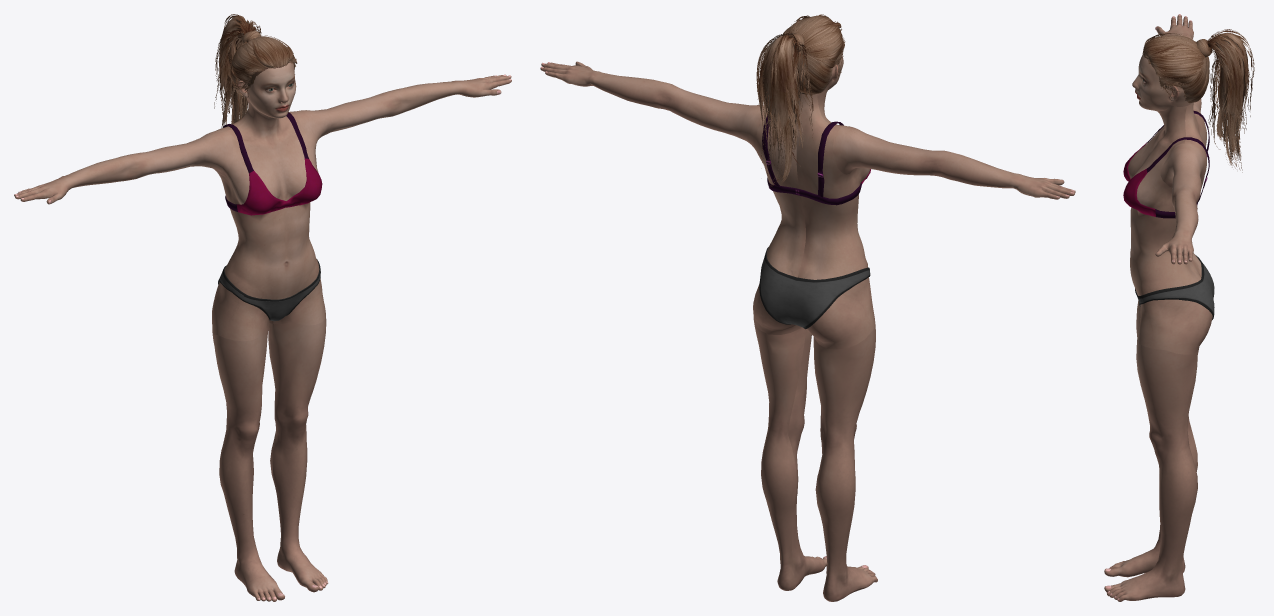
Rendered from western-female.fbx.
3 views of the same model, side by side, from view 1: azimuth 30°, elevation 25°; view 2: azimuth 150°, elevation 25°; view 3: azimuth 270°, elevation 25° (orthographic). The views are drawn at different scales.
Parts seen in each view (by area): view 1: 4, 2, 3, Hair_High_polytail_0, Bra_Bra_0, 1, Underwear_Bottoms_UnderwearBottoms_0; view 2: 4, 2, 3, Hair_High_polytail_0, Underwear_Bottoms_UnderwearBottoms_0, Bra_Bra_0; view 3: 4, 2, Hair_High_polytail_0, 3, 1, Bra_Bra_0, Underwear_Bottoms_UnderwearBottoms_0.
Part boxes in pixels (x1,y1,x2,y2): 4: (212,315,328,601); 2: (212,101,325,341); 3: (14,75,511,204); Hair_High_polytail_0: (214,14,297,127); Bra_Bra_0: (222,112,322,215); 1: (237,62,296,118); Underwear_Bottoms_UnderwearBottoms_0: (218,259,320,321); 4: (754,321,877,601); 2: (753,86,875,349); 3: (540,61,1075,199); Hair_High_polytail_0: (756,14,845,186); Underwear_Bottoms_UnderwearBottoms_0: (759,247,870,329); Bra_Bra_0: (762,115,870,205); 4: (1104,309,1198,601); 2: (1128,102,1212,354); Hair_High_polytail_0: (1142,29,1254,172); 3: (1155,15,1205,264); 1: (1132,54,1191,111); Bra_Bra_0: (1123,111,1209,218); Underwear_Bottoms_UnderwearBottoms_0: (1135,255,1214,319).
Bounding box in the file's own units: 16768 × 17472 × 4440.
Materials: 17 (17 with a texture image).
